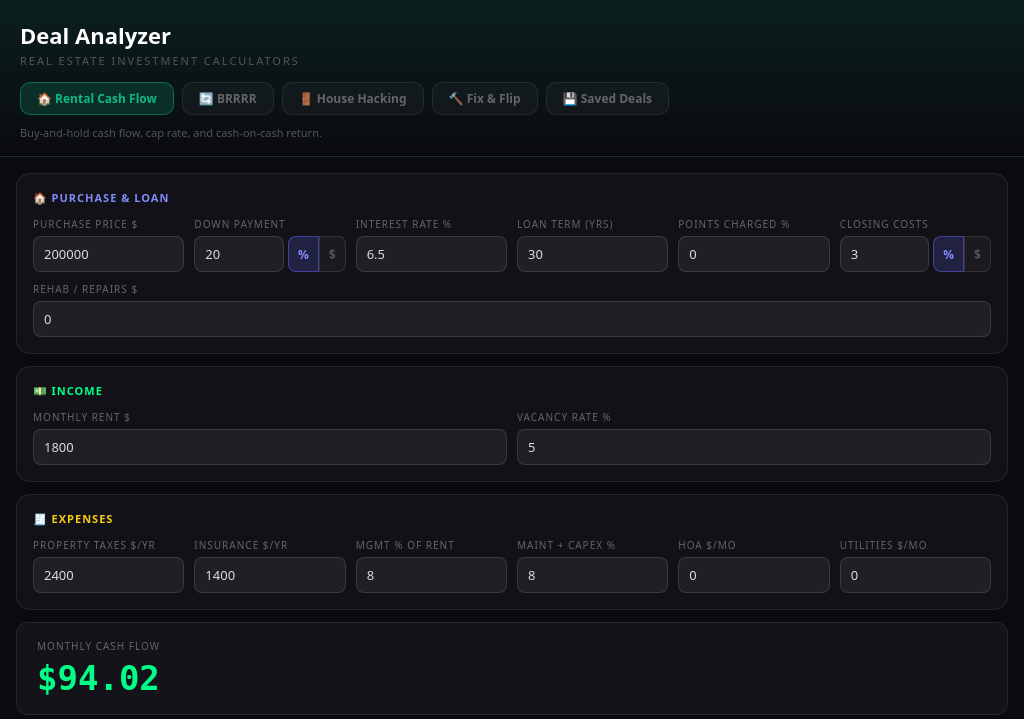
Test: fix & flip hides points for conventional financing
Click the button "🔨 Fix & Flip" at (485, 98), box [432,82,538,115]
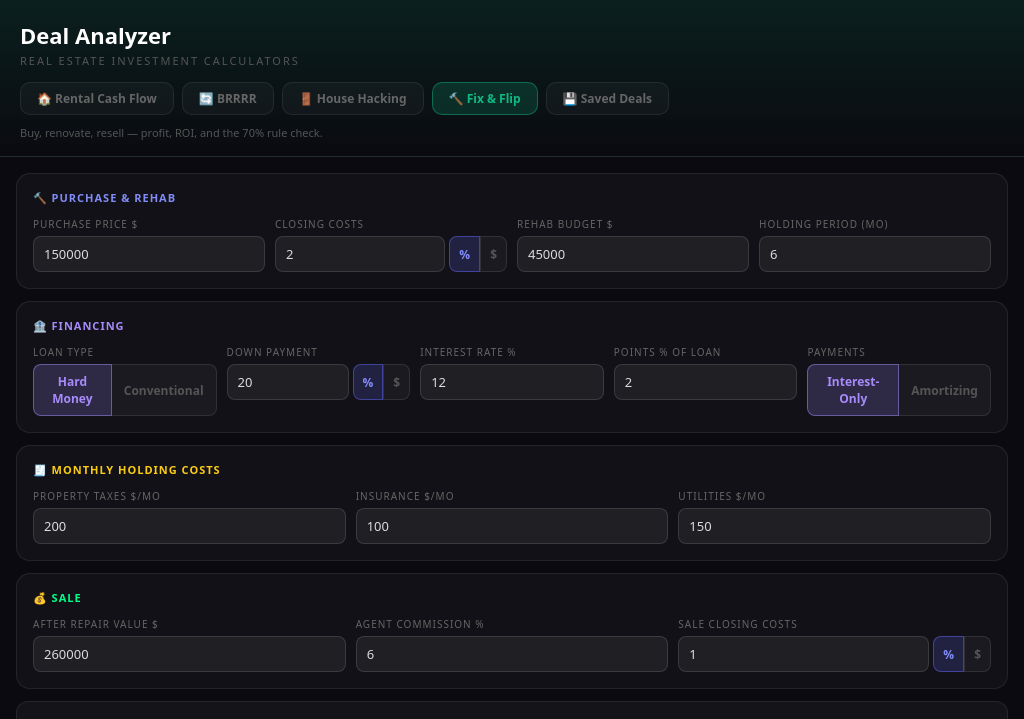
Check: the text "Points % of Loan" is shown, box [614,345,722,359]
Click the button "Conventional" at (164, 390), box [112,364,217,416]
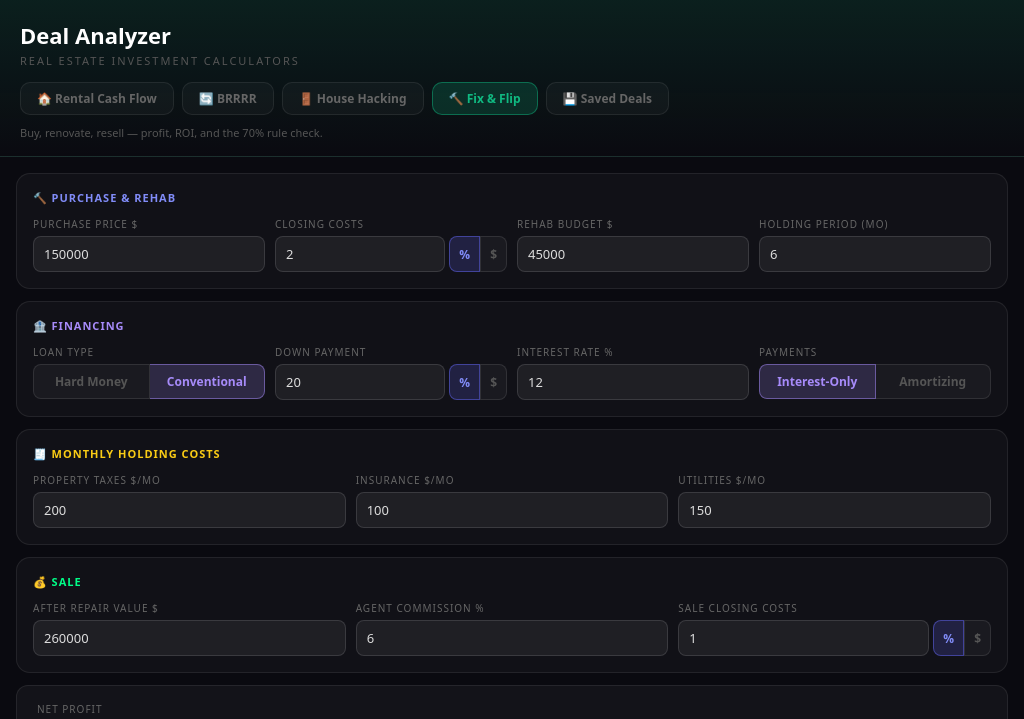
Check: the text "Points % of Loan" is gone
